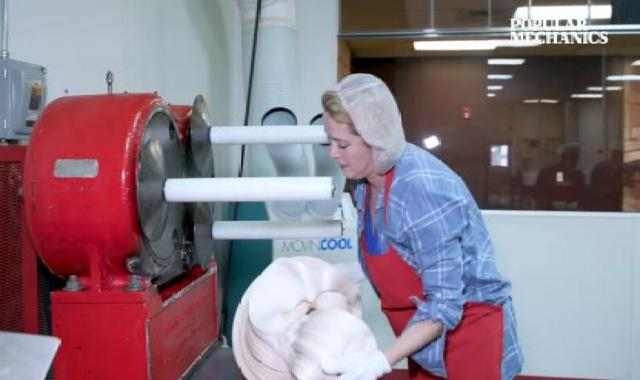hairnet: (316, 70, 407, 177)
